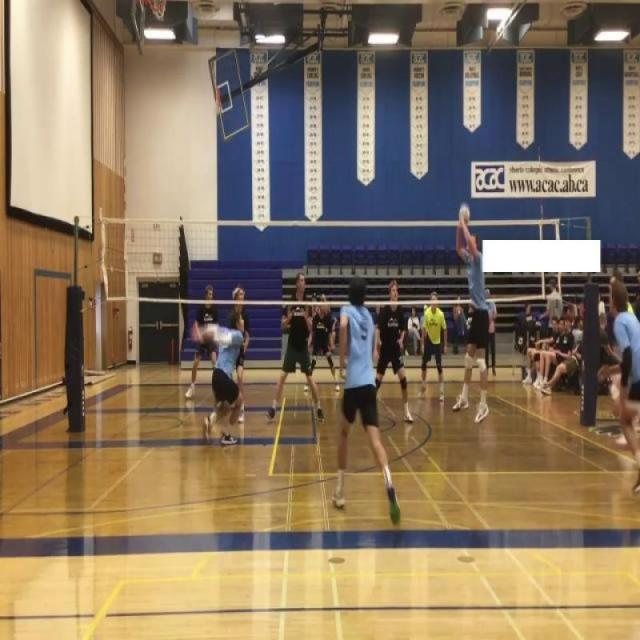volleyball: (458, 202, 470, 222)
